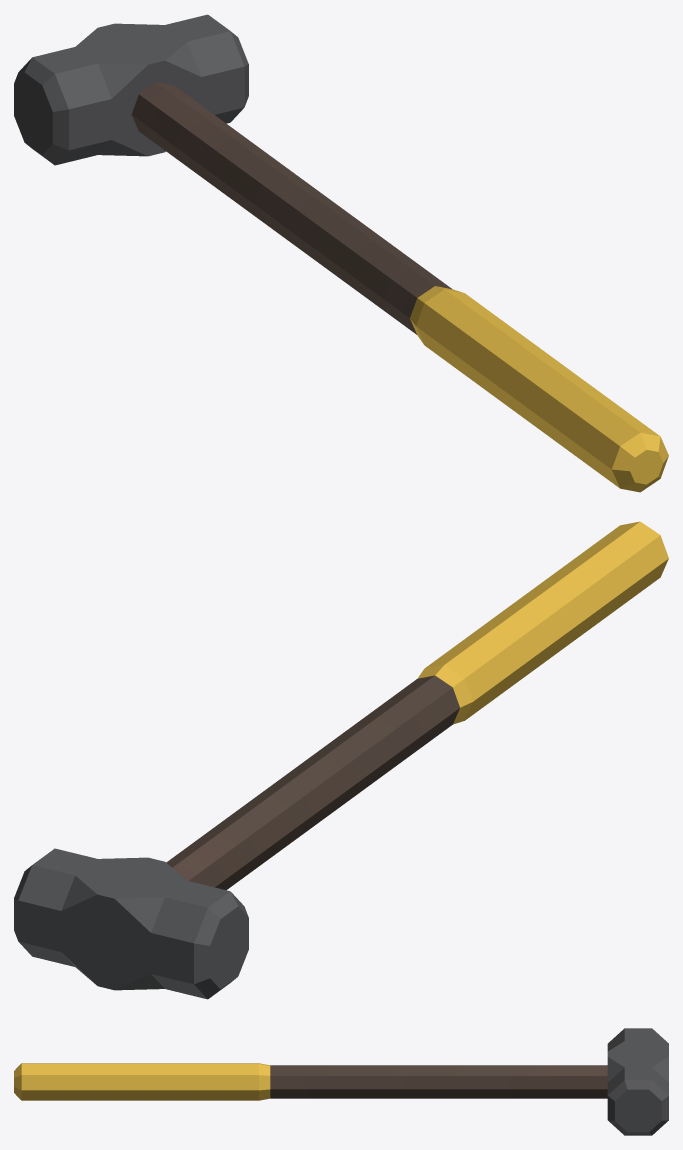
The model's file is scene_wmvzenuOtn.glb.
The picture shows the model from 3 angles, top to bottom: view 1: azimuth 30°, elevation 25°; view 2: azimuth 150°, elevation 25°; view 3: azimuth 270°, elevation 25°; orthographic projection. The views are drawn at different scales.
Visible parts, largest first — view 1: Hammer; view 2: Hammer; view 3: Hammer.
Boxes of the visible parts, x1=… form: Hammer: x1=14, y1=14, x2=668, y2=492; Hammer: x1=14, y1=521, x2=668, y2=999; Hammer: x1=14, y1=1028, x2=668, y2=1135.
Size of the model in its own units: 0.3623 by 0.1618 by 1.73.
1 material, 1 textured.
